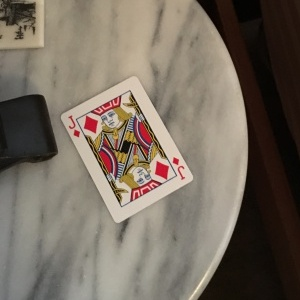card: (59, 76, 196, 224)
